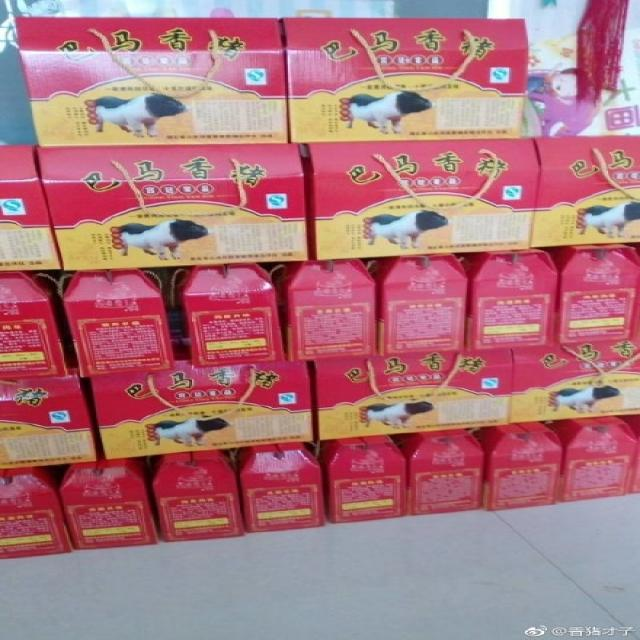box: (13, 16, 287, 147), (38, 144, 310, 271), (279, 17, 529, 143), (298, 138, 541, 261), (89, 360, 314, 459), (313, 349, 513, 440), (61, 268, 175, 377), (531, 136, 640, 248), (259, 259, 377, 362), (172, 263, 285, 369), (509, 339, 640, 424), (361, 253, 468, 356), (455, 248, 560, 351), (540, 244, 640, 345), (0, 368, 97, 469), (58, 459, 160, 551), (150, 450, 246, 544), (231, 442, 327, 533), (313, 435, 409, 525), (543, 416, 639, 503), (391, 427, 483, 517), (476, 422, 561, 512), (0, 145, 60, 271), (0, 271, 68, 380), (0, 467, 74, 559)
